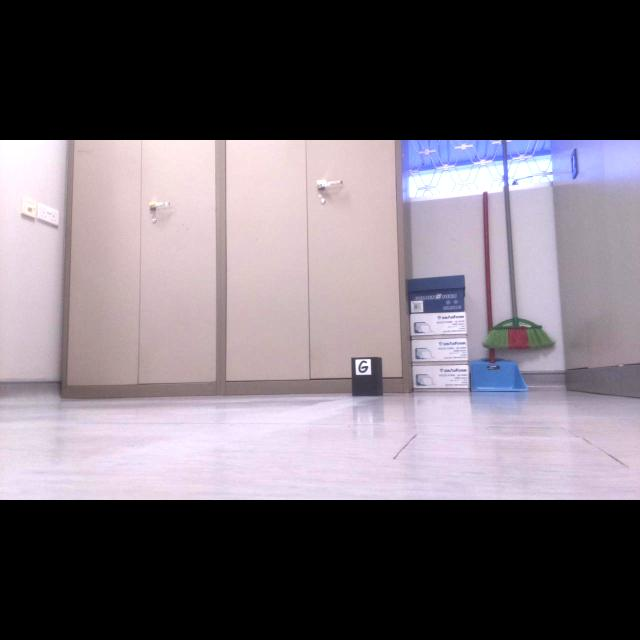G: (359, 361, 368, 373)
